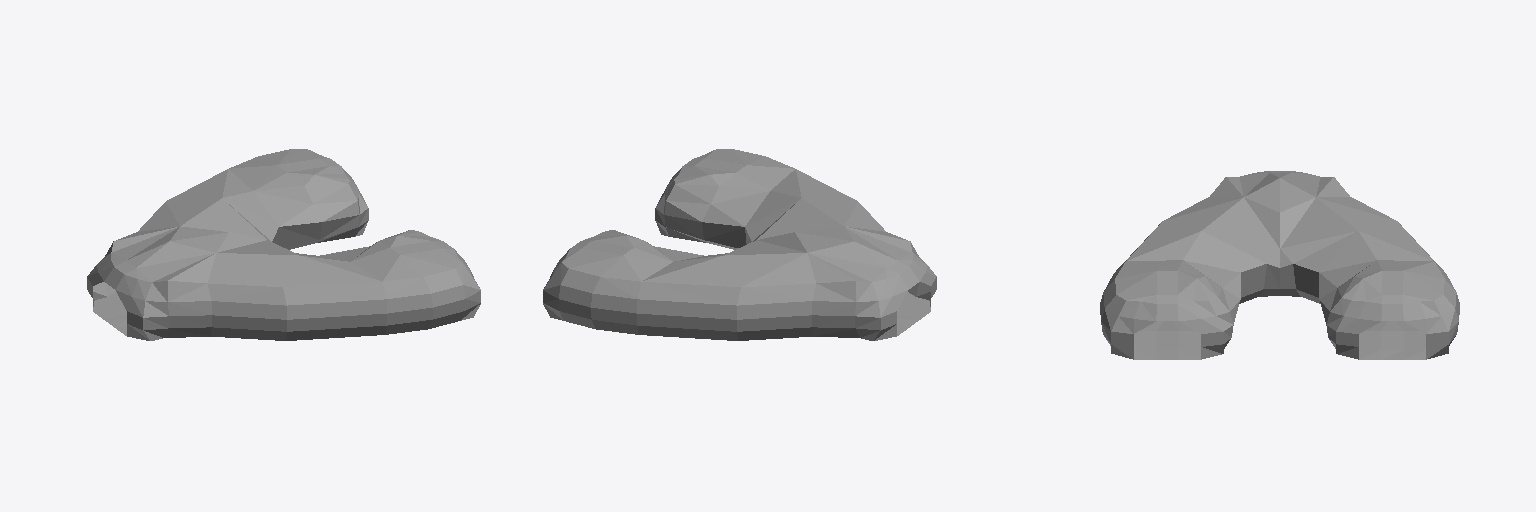
File: Mesh_CavePack_Room_Split_lod0.obj
3 renders of one model, left to right at view 1: azimuth 30°, elevation 25°; view 2: azimuth 150°, elevation 25°; view 3: azimuth 270°, elevation 25°, orthographic.
Visible parts, largest first — view 1: Plane.009; view 2: Plane.009; view 3: Plane.009.
Part boxes in pixels (left/top/right/bottom): Plane.009: left=87, top=149, right=480, bottom=340; Plane.009: left=543, top=149, right=936, bottom=340; Plane.009: left=1100, top=171, right=1459, bottom=359.
Bounding box in the file's own units: 48 × 11.18 × 51.23.